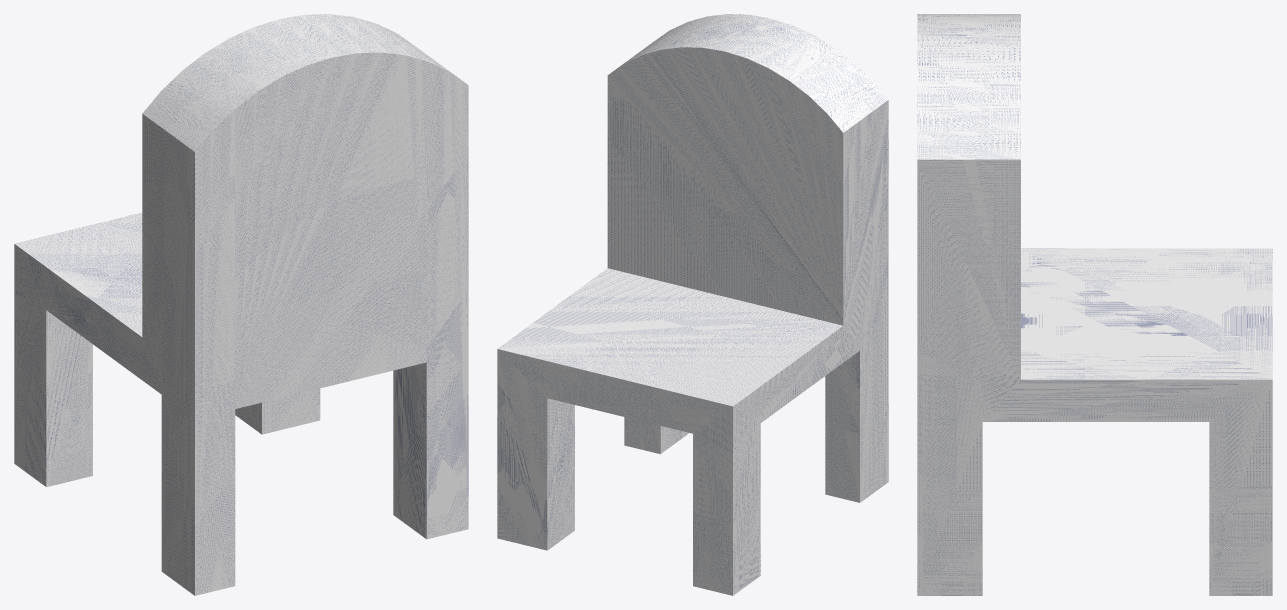
3 views of the same model, side by side, from view 1: azimuth 30°, elevation 25°; view 2: azimuth 150°, elevation 25°; view 3: azimuth 270°, elevation 25° (orthographic). The views are drawn at different scales.
Parts seen in each view (by area): view 1: basic___chair_ID4; view 2: basic___chair_ID4; view 3: basic___chair_ID4.
Part boxes in pixels (x1,y1,x2,y2): basic___chair_ID4: [14, 14, 468, 595]; basic___chair_ID4: [497, 14, 888, 595]; basic___chair_ID4: [917, 14, 1272, 595].
Size of the model in its own units: 0.4298 by 0.7575 by 0.4914.
